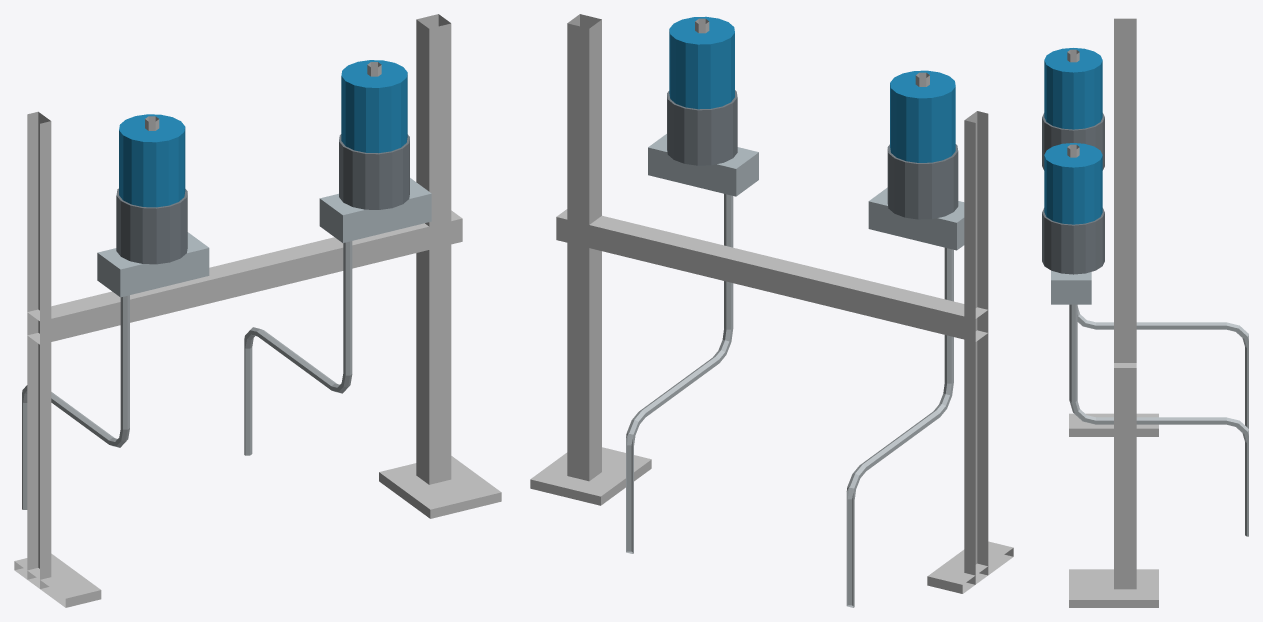
File: cell_20.obj
The picture shows the model from 3 angles, left to right: view 1: azimuth 30°, elevation 25°; view 2: azimuth 150°, elevation 25°; view 3: azimuth 270°, elevation 25°; orthographic projection. The views are drawn at different scales.
Bounding box in the file's own units: 0.98 × 1 × 0.46.
